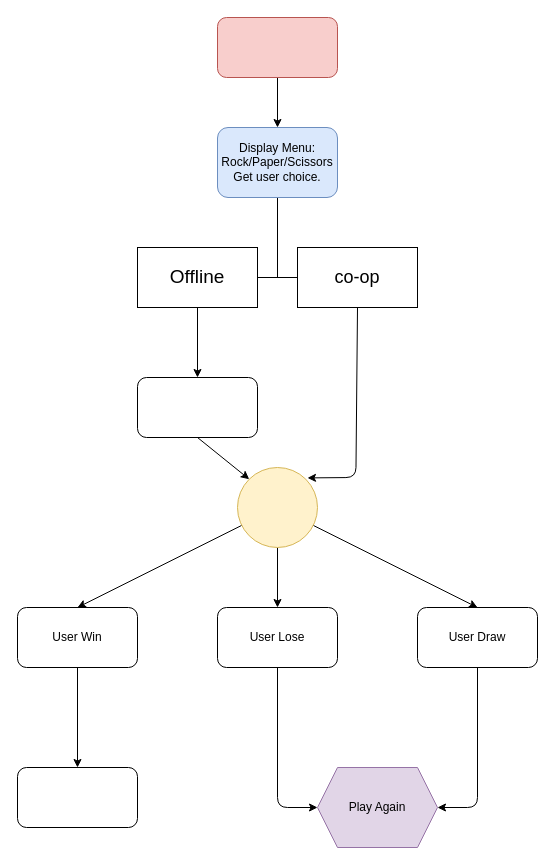
Image size: 555x865. Some labels were removed from this diagram. Each missing label, with the box of its shape:
Generate computer: (136, 376, 258, 438)
Lets Play: (236, 466, 318, 548)
START: (216, 16, 338, 78)
User get win streak: (16, 766, 138, 828)
